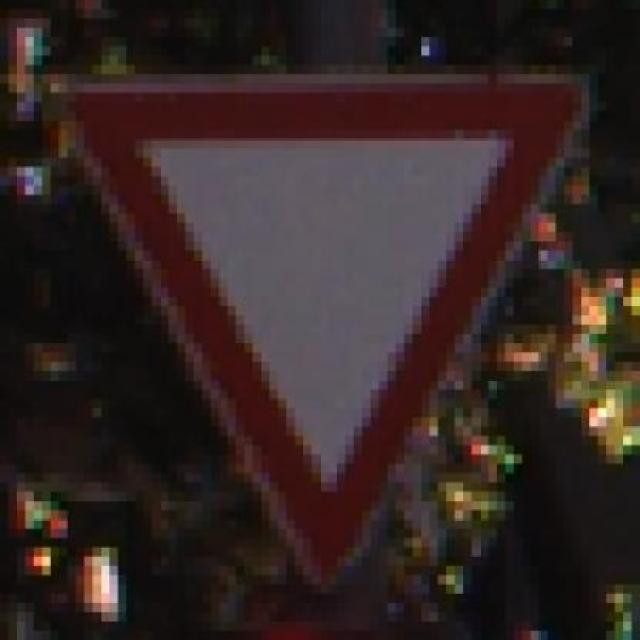Give Way: (59, 46, 598, 585)
